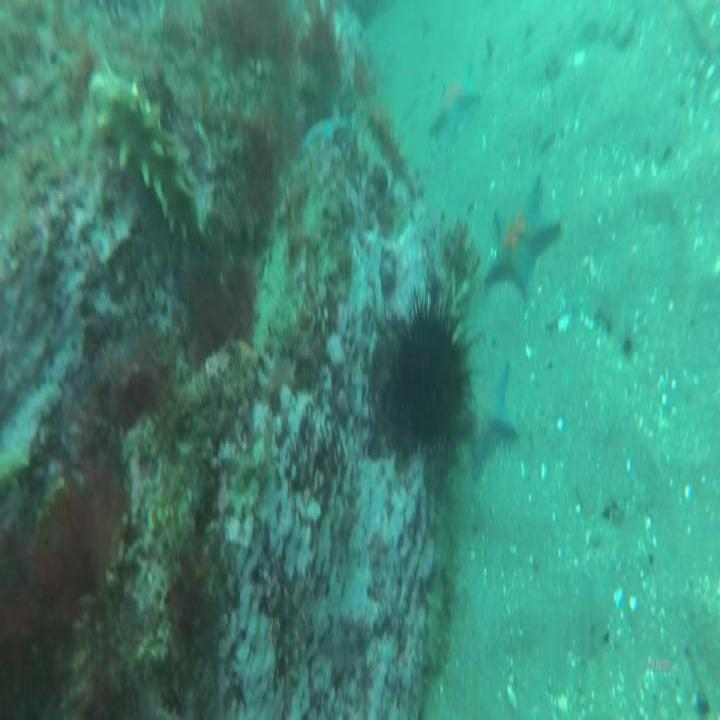echinus: (378, 270, 472, 457)
holothurian: (84, 64, 201, 242)
starfish: (480, 172, 563, 302), (463, 361, 521, 469), (426, 68, 480, 142), (300, 114, 350, 153)
